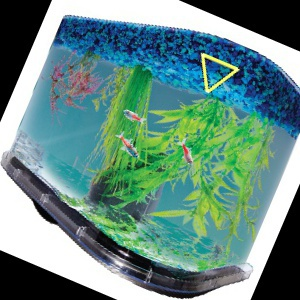triangle: (199, 49, 240, 94)
